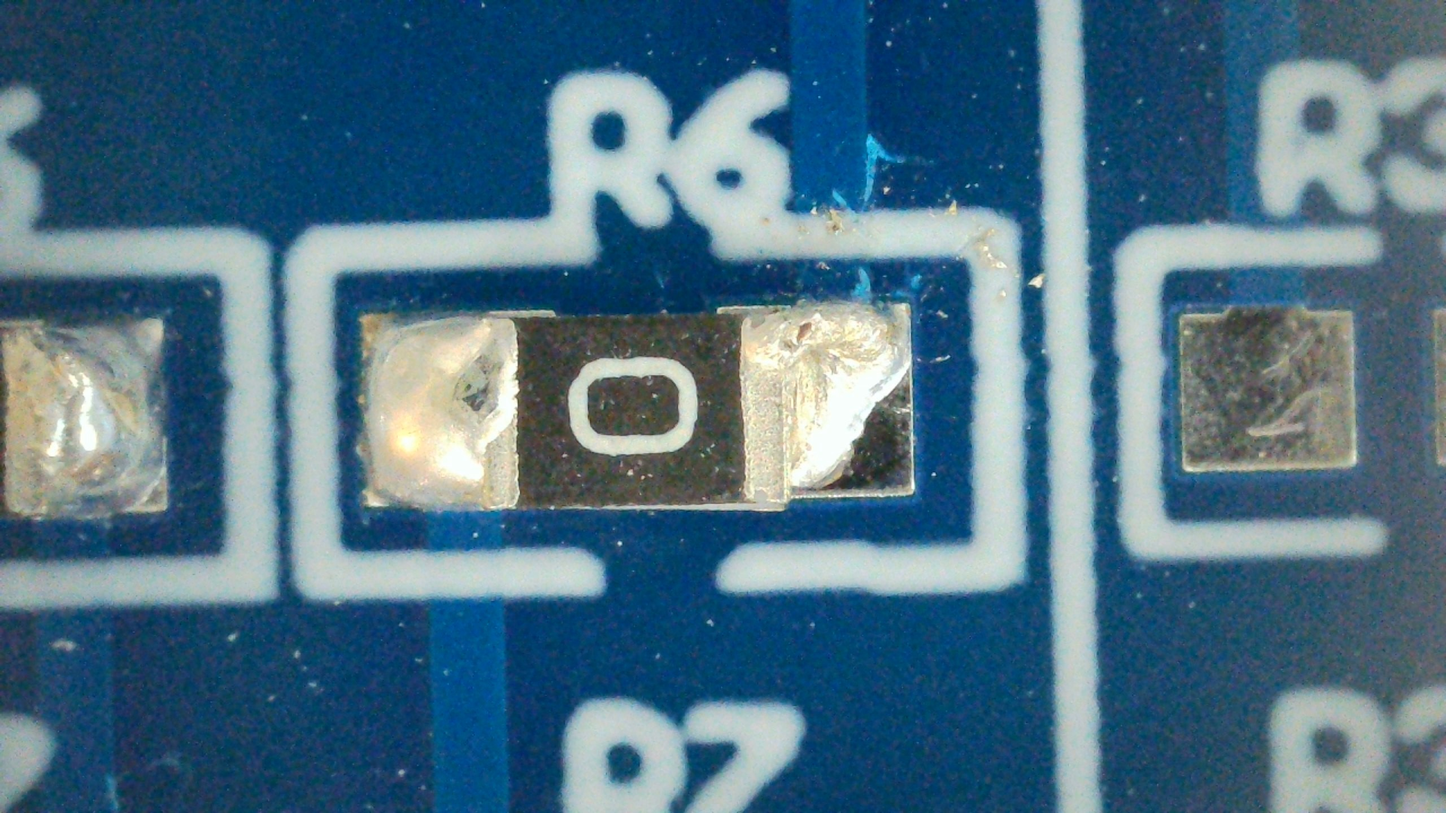OK: (361, 297, 913, 511)
